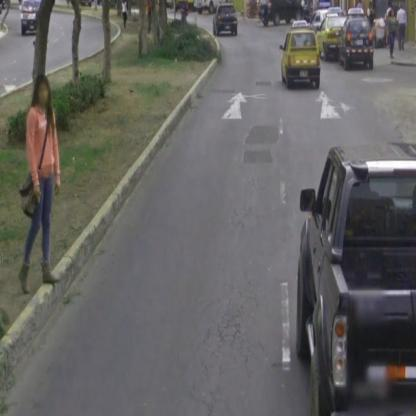Peaton: (20, 77, 62, 278), (398, 4, 410, 54), (387, 11, 398, 64)
Pista: (7, 40, 401, 413), (1, 23, 115, 96)
Vehiculo: (297, 144, 416, 415), (281, 25, 321, 96), (340, 14, 376, 73), (316, 16, 347, 62), (259, 2, 304, 28), (214, 5, 239, 38), (21, 2, 41, 37)
